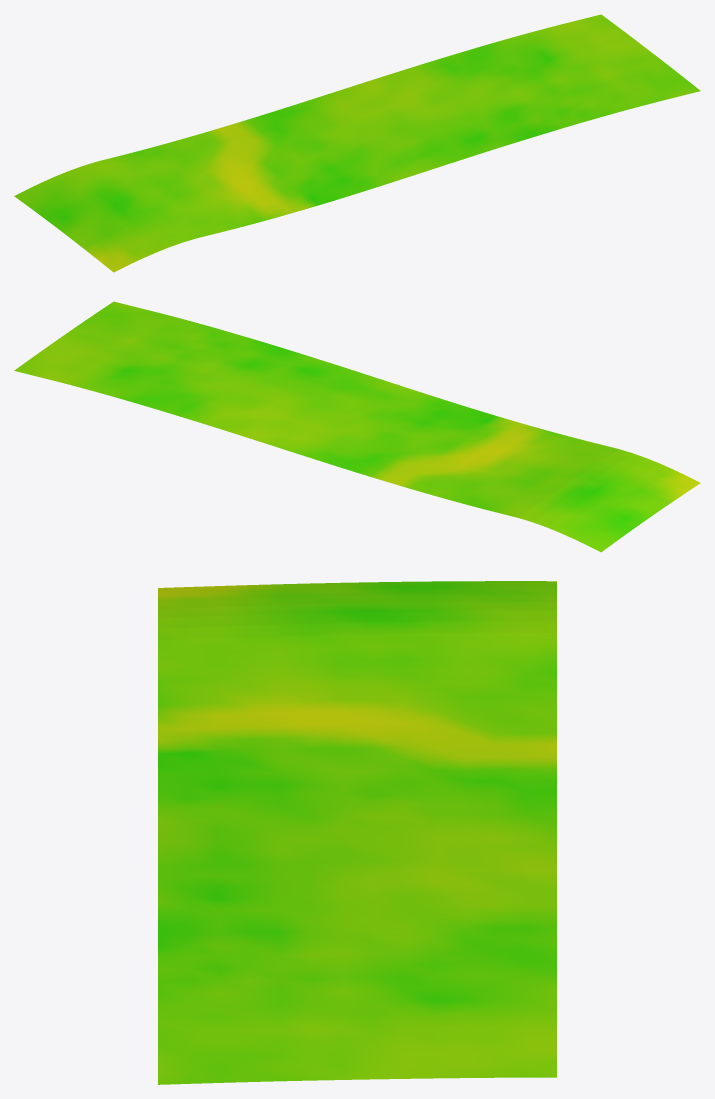
The model's file is terrain_3_4.glb.
3 renders of one model, top to bottom at view 1: azimuth 30°, elevation 25°; view 2: azimuth 150°, elevation 25°; view 3: azimuth 270°, elevation 25°, orthographic. The views are drawn at different scales.
Parts seen in each view (by area): view 1: terrain_3_4; view 2: terrain_3_4; view 3: terrain_3_4.
Part boxes in pixels (x1=…): terrain_3_4: x1=14, y1=14, x2=700, y2=272; terrain_3_4: x1=14, y1=301, x2=700, y2=552; terrain_3_4: x1=158, y1=581, x2=556, y2=1084.
Bounding box in the file's own units: 85 × 5.79 × 25.
